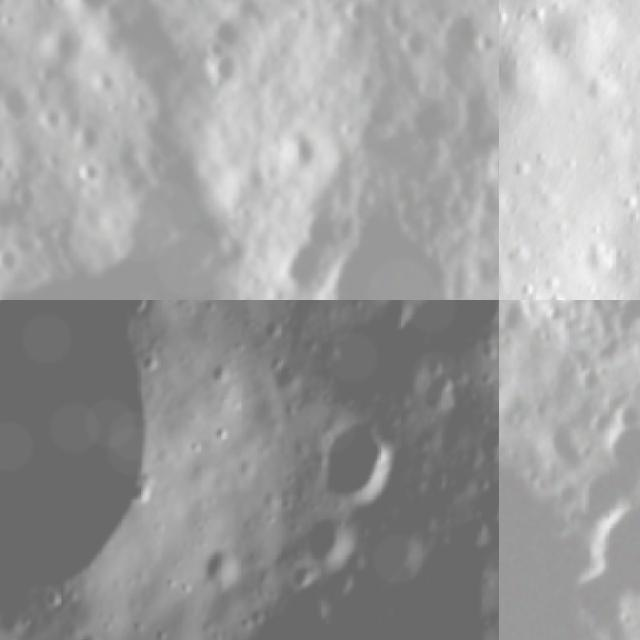crater: (0, 300, 174, 598), (499, 430, 640, 640), (275, 178, 499, 300), (224, 573, 398, 640), (0, 235, 179, 300), (499, 300, 640, 365), (305, 416, 398, 495), (579, 495, 640, 604), (555, 465, 638, 537), (562, 562, 636, 640), (272, 124, 336, 188), (198, 45, 258, 102), (591, 419, 640, 488), (302, 505, 356, 560), (57, 115, 111, 166), (388, 19, 439, 70), (0, 76, 41, 138), (61, 150, 112, 197), (0, 175, 46, 223), (0, 236, 34, 289), (51, 0, 119, 26), (478, 125, 499, 204), (0, 192, 27, 248), (466, 475, 499, 520), (472, 420, 499, 466), (0, 94, 11, 148), (507, 0, 554, 11)
